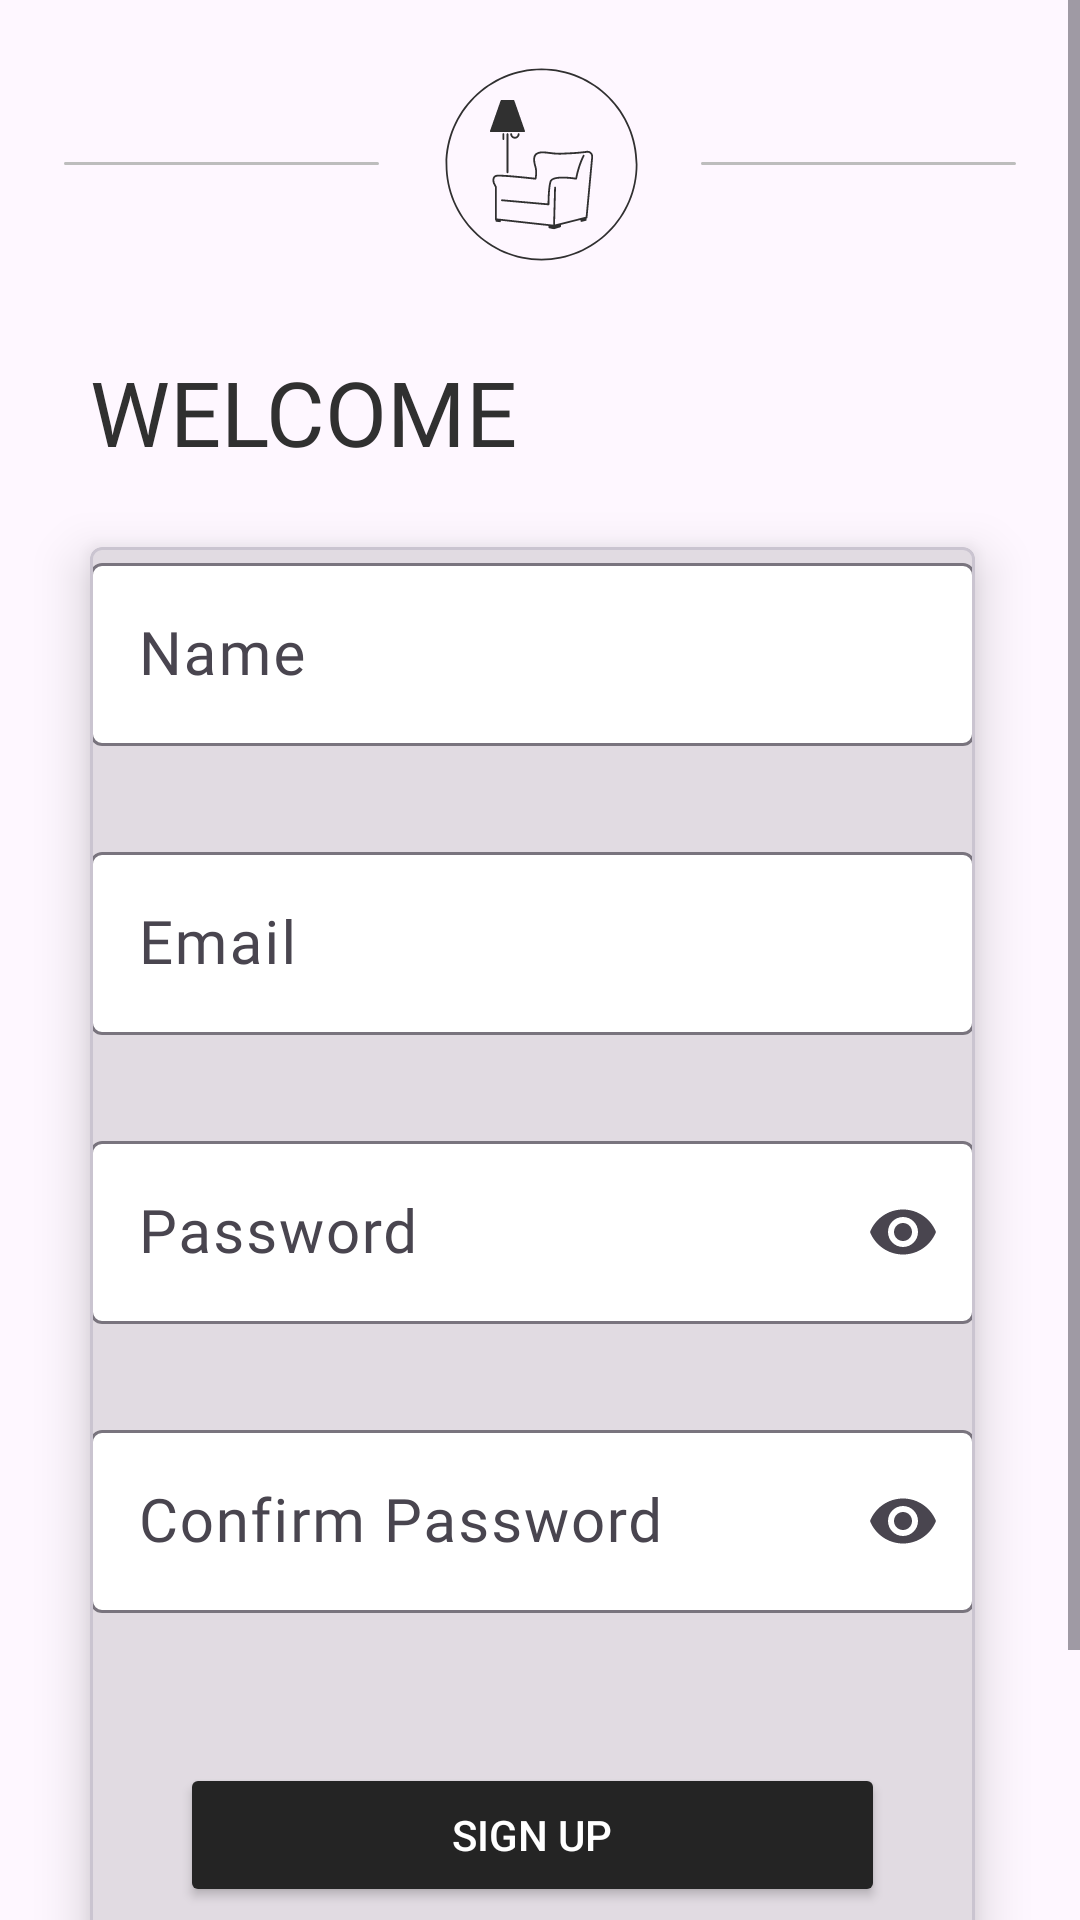

Screen size 1080px x 1920px. Icon name, then its box in pixels as (x1, y1, x2, y2):
living room: (445, 68, 638, 261)
